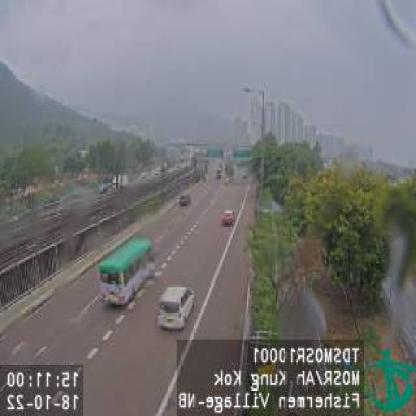Car: (157, 283, 195, 334), (220, 206, 236, 228), (178, 194, 190, 208)
Minibus: (99, 233, 156, 311)
